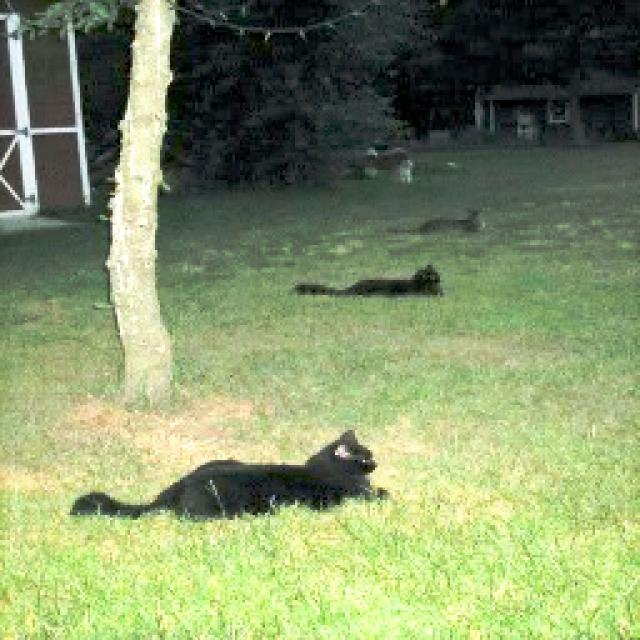cat: (67, 423, 413, 557), (296, 261, 447, 310), (391, 202, 495, 250)
